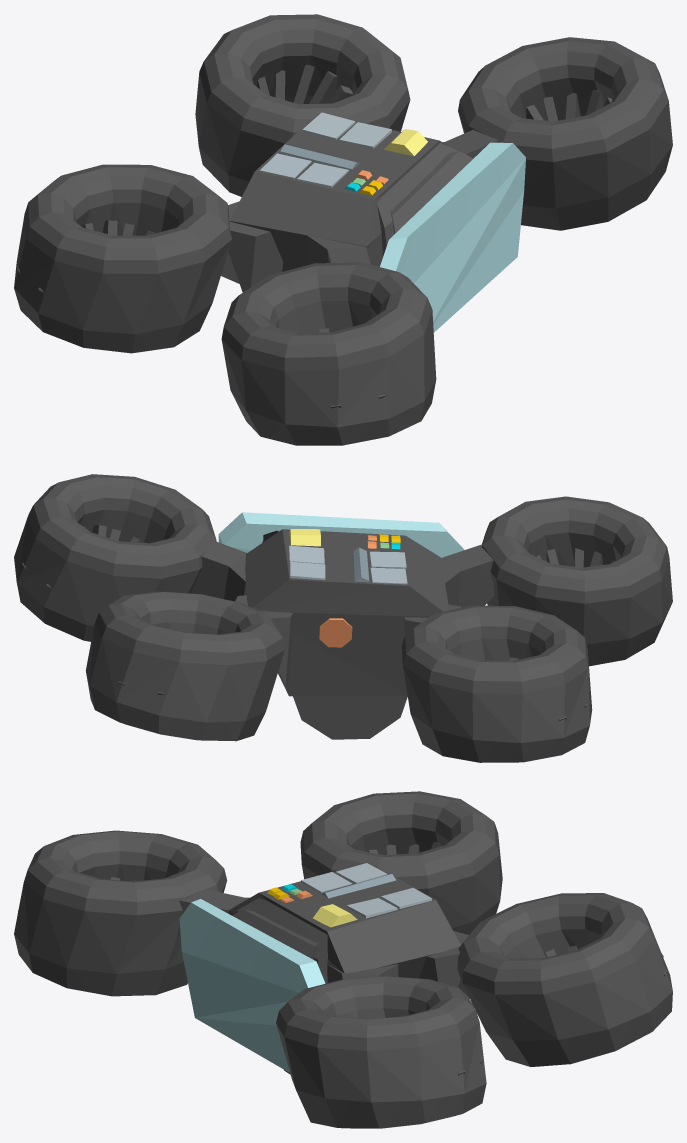
Rendered from Drone_blender.obj.
3 renders of one model, top to bottom at view 1: azimuth 30°, elevation 25°; view 2: azimuth 150°, elevation 25°; view 3: azimuth 270°, elevation 25°, orthographic. The views are drawn at different scales.
Visible parts, largest first — view 1: Drone_mesh_mesh1027900657; view 2: Drone_mesh_mesh1027900657; view 3: Drone_mesh_mesh1027900657.
Boxes of the visible parts, <box> form: Drone_mesh_mesh1027900657: <box>14,14,672,445</box>; Drone_mesh_mesh1027900657: <box>14,474,672,762</box>; Drone_mesh_mesh1027900657: <box>14,791,672,1128</box>.
Bounding box in the file's own units: 0.3705 × 0.1098 × 0.3538.
